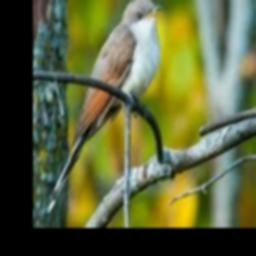Cuckoo: (47, 0, 162, 212)
